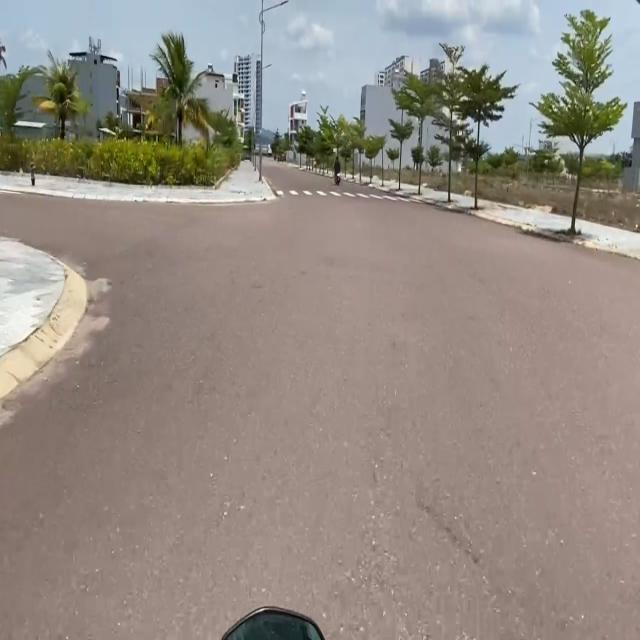walk-crossing: (275, 188, 415, 202)
